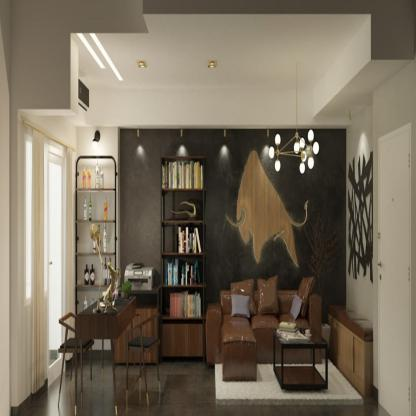bantal: (258, 278, 280, 313), (232, 294, 250, 317)
buku: (166, 259, 199, 287), (168, 292, 201, 316), (176, 227, 201, 253)
kursi: (130, 315, 161, 399)
meja: (79, 291, 130, 402), (269, 325, 331, 396)
sova: (208, 285, 325, 389)
